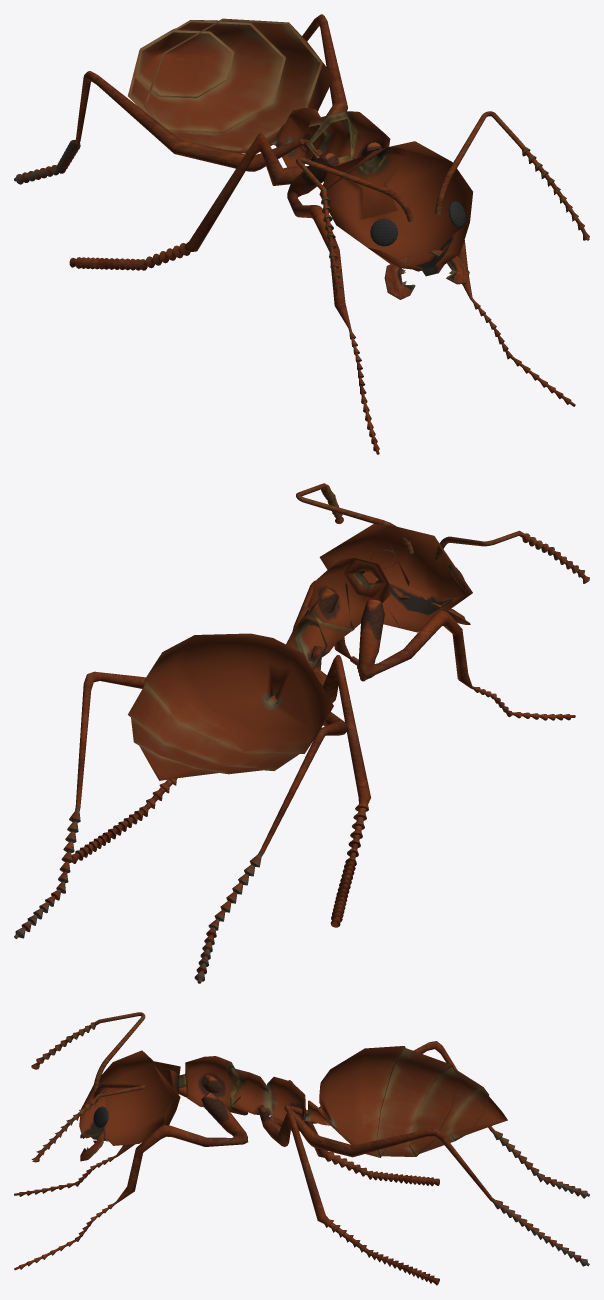
File: Chumoli.fbx
3 renders of one model, top to bottom at view 1: azimuth 30°, elevation 25°; view 2: azimuth 150°, elevation 25°; view 3: azimuth 270°, elevation 25°, orthographic. The views are drawn at different scales.
Visible parts, largest first — view 1: Sphere001, Line003, Line001, Line002, Line004, Plane001, Sphere002; view 2: Sphere001, Line003, Line001, Line002, Line004; view 3: Sphere001, Line003, Line001, Line002, Line004.
Part boxes in pixels (x1=…): Sphere001: x1=128, y1=18, x2=472, y2=276; Line003: x1=14, y1=14, x2=347, y2=184; Line001: x1=287, y1=142, x2=575, y2=454; Line002: x1=69, y1=133, x2=322, y2=270; Line004: x1=296, y1=111, x2=589, y2=300; Plane001: x1=384, y1=250, x2=469, y2=299; Sphere002: x1=370, y1=201, x2=465, y2=246; Sphere001: x1=128, y1=524, x2=472, y2=780; Line003: x1=14, y1=671, x2=347, y2=983; Line001: x1=292, y1=581, x2=575, y2=720; Line002: x1=71, y1=645, x2=370, y2=927; Line004: x1=296, y1=483, x2=589, y2=583; Sphere001: x1=79, y1=1046, x2=507, y2=1157; Line003: x1=284, y1=1041, x2=589, y2=1266; Line001: x1=14, y1=1075, x2=248, y2=1270; Line002: x1=257, y1=1080, x2=439, y2=1285; Line004: x1=31, y1=1012, x2=145, y2=1162.
Size of the model in its own units: 148 by 125 by 350.
Materials: 7 (7 with a texture image).
